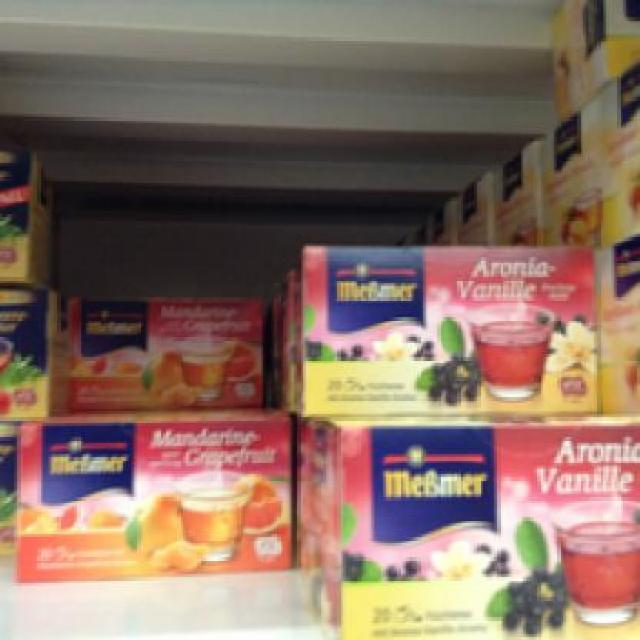Tea: (305, 412, 638, 628), (294, 240, 594, 409), (14, 408, 294, 572), (57, 288, 266, 408)
